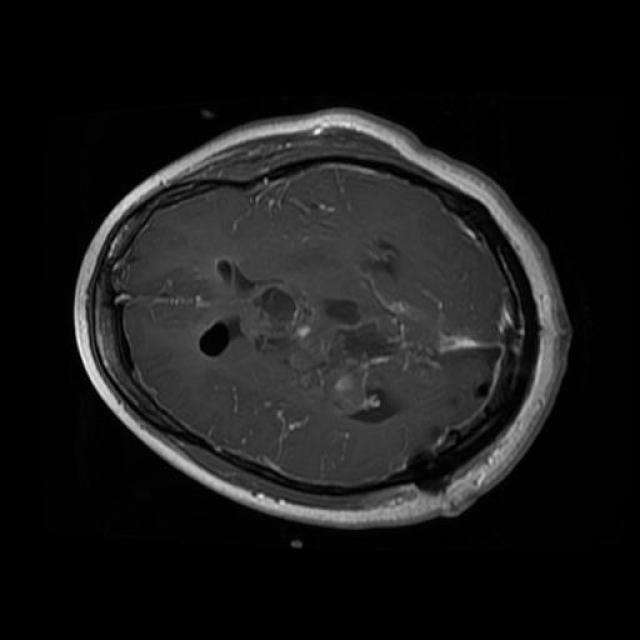Glioma: (233, 283, 335, 380)
